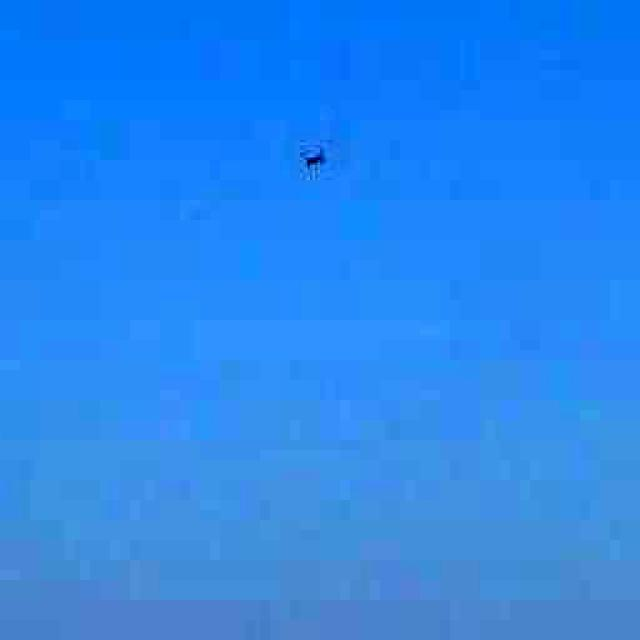bird: (281, 125, 346, 188)
